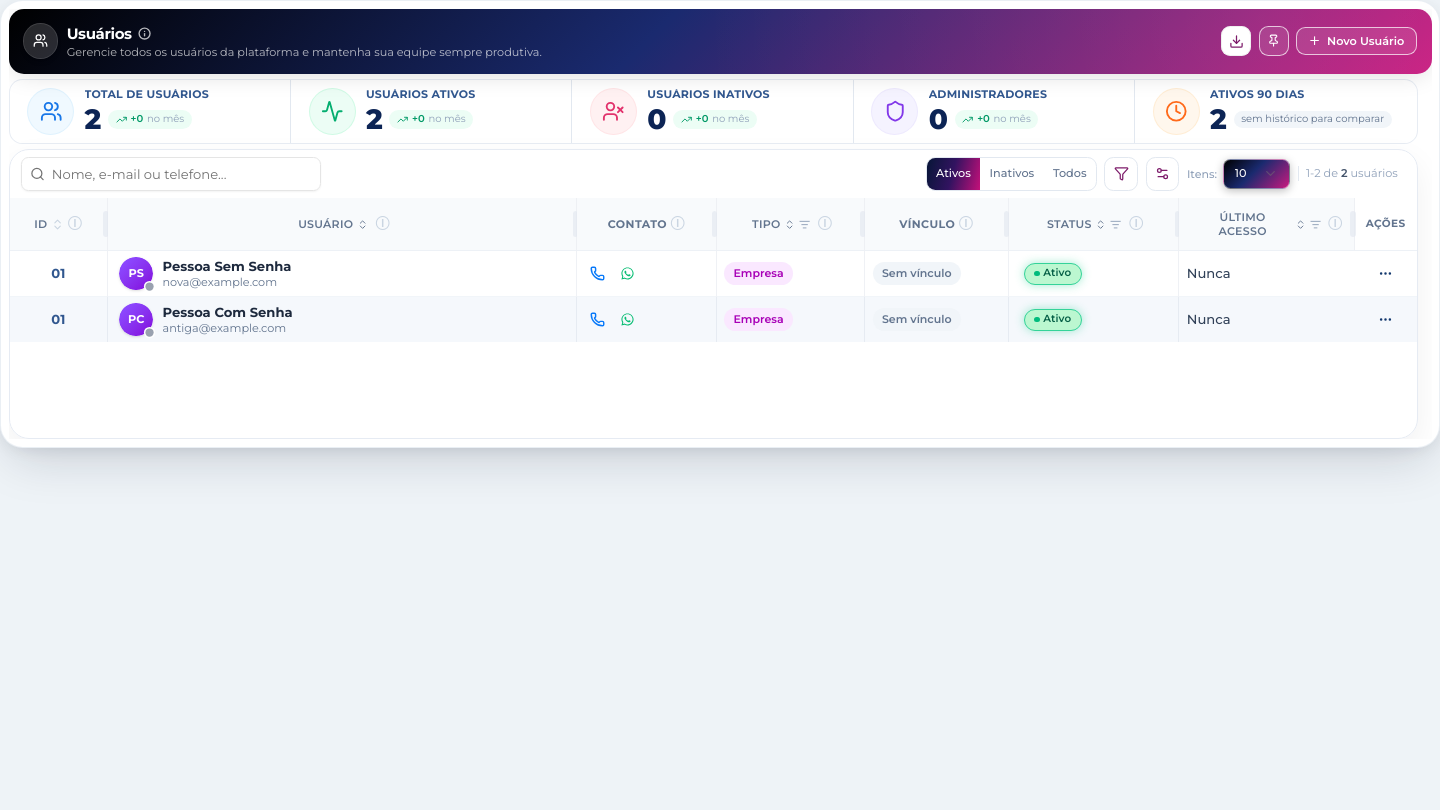
admin/usuarios — bloquear/desbloquear (ação reversível) › 1b. o menu visível tem Excluir usuário e, só para quem ainda não definiu senha, Copiar link de primeiro acesso
The width and height of the screenshot is (1440, 810).
Expected: the text "Pessoa Sem Senha" is shown, [162,257,291,276]
Click the button named "Mais ações — Pessoa Sem Senha" at (1385, 274), box [1370,259,1400,289]
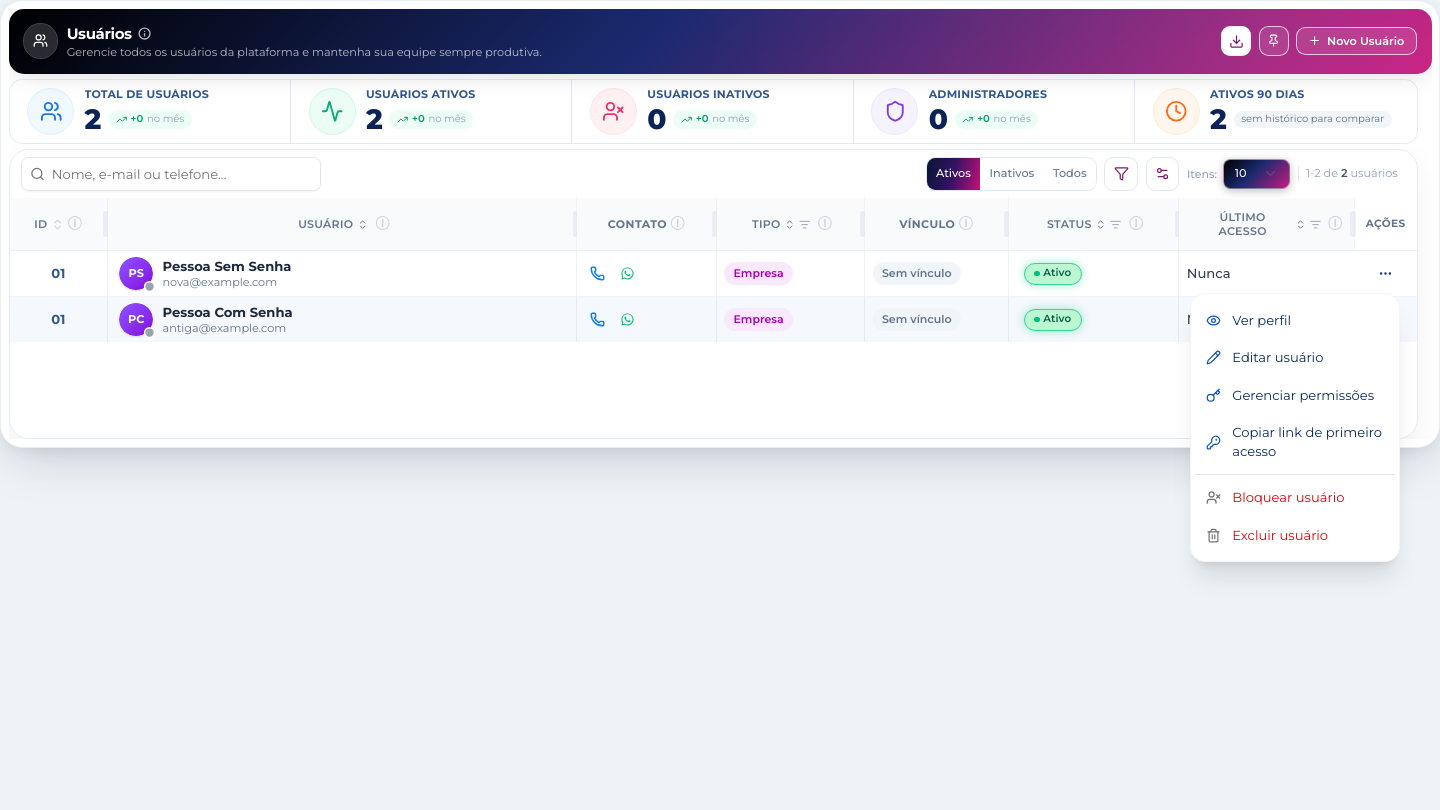
Expected: the menu item "Copiar link de primeiro acesso" is shown, [1198,414,1392,470]
Expected: the menu item "Excluir usuário" is shown, [1206,527,1328,543]
Press Escape
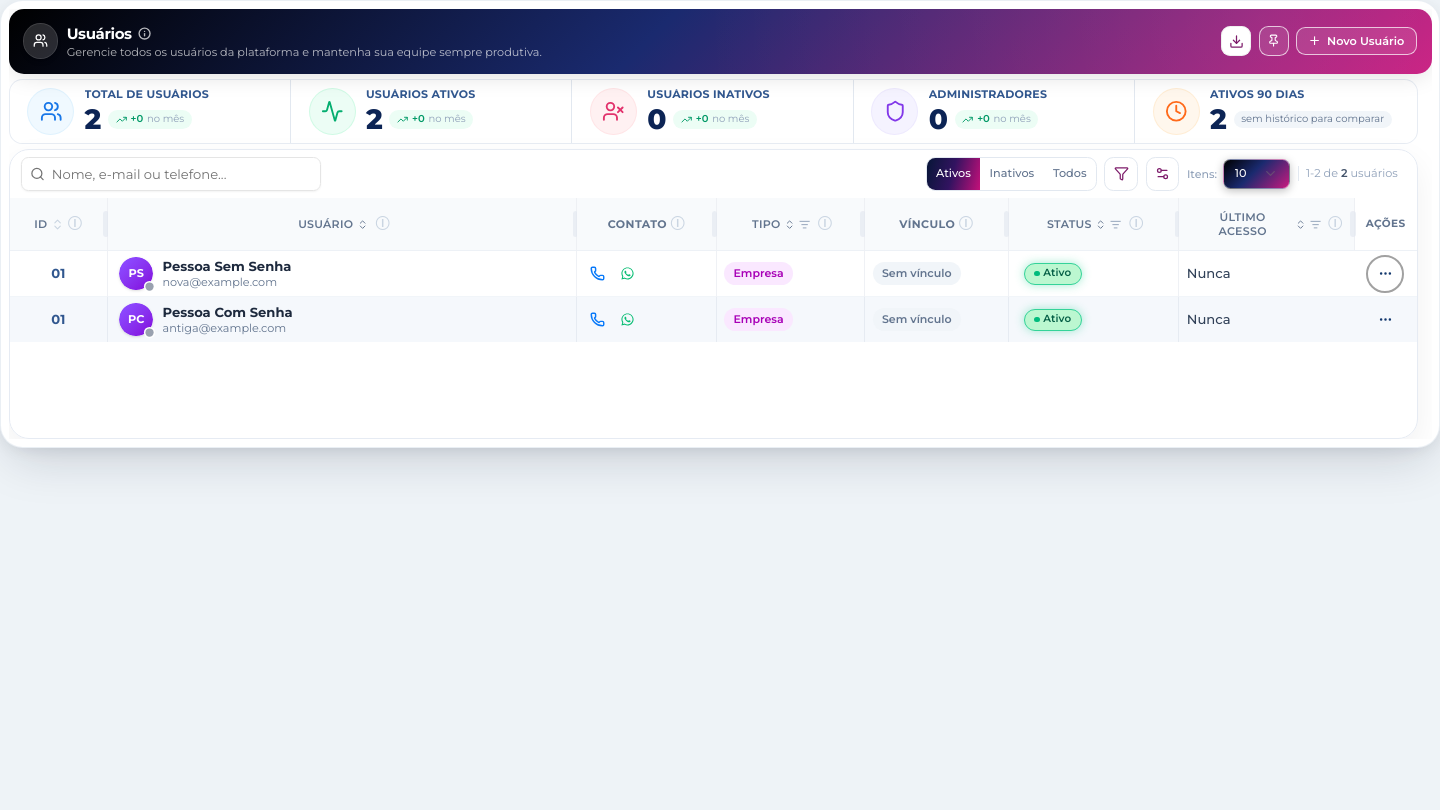
Expected: the menu item "Excluir usuário" is gone
Click the button named "Mais ações — Pessoa Com Senha" at (1385, 320), box [1370,305,1400,335]
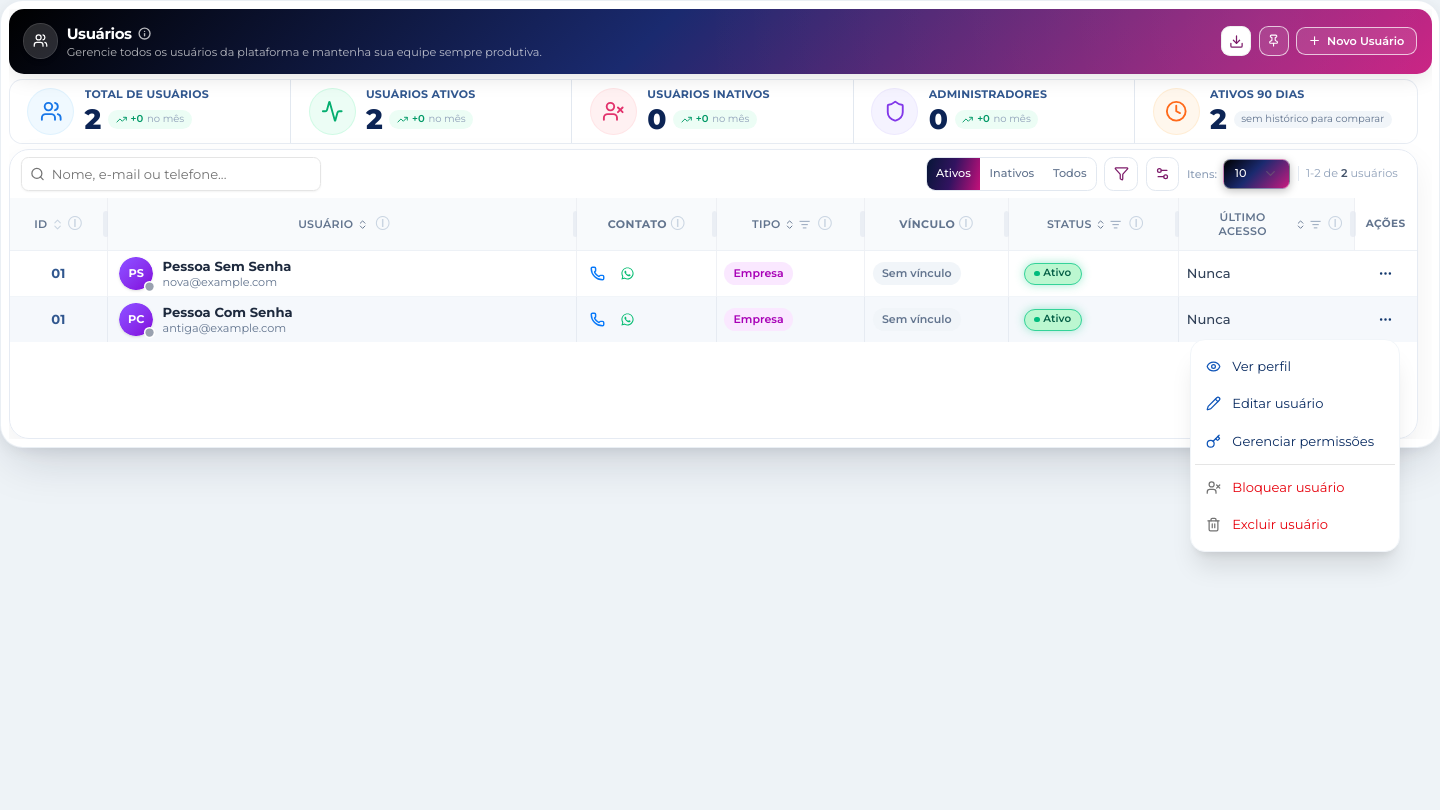
Expected: the menu item "Copiar link de primeiro acesso" is not shown
Expected: the menu item "Excluir usuário" is shown, [1206,516,1328,532]
